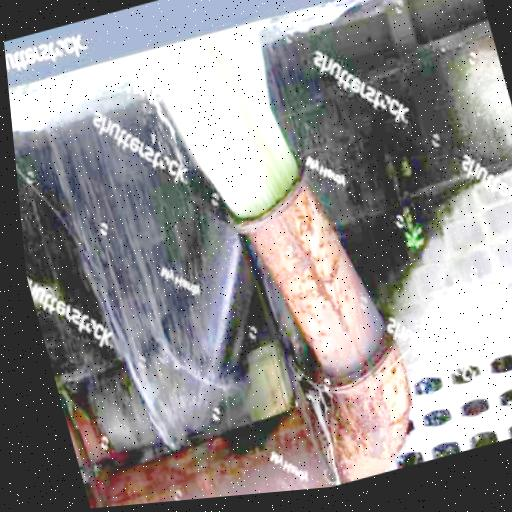corrosion: (91, 345, 428, 508), (229, 162, 394, 370)
